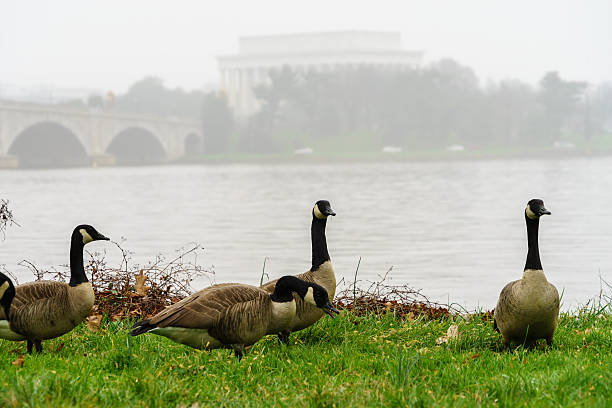goose: (121, 275, 337, 371), (1, 221, 112, 359), (249, 197, 340, 337), (491, 196, 566, 352)
